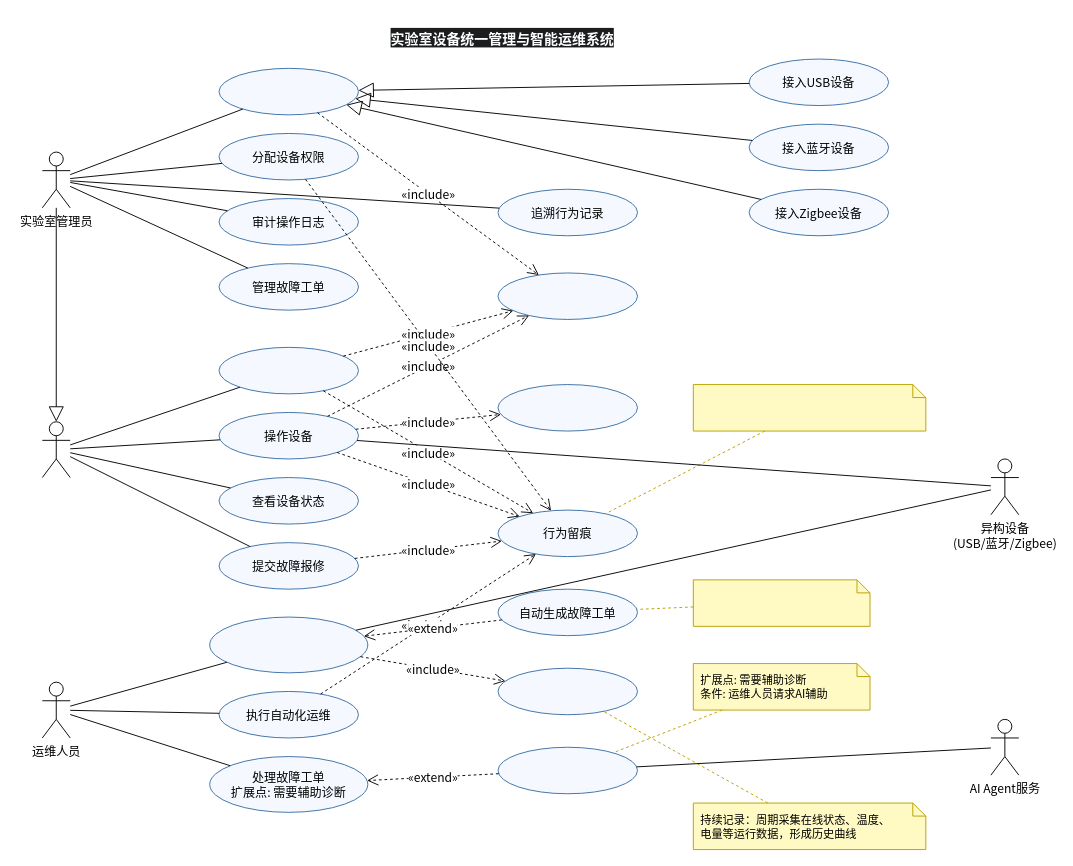
This 1073x866 diagram has some shape labels left out. Here are the shapes that lost their labels. From the top down, the box of each, then its label:
(218, 67, 359, 115): 接入设备
(497, 272, 638, 319): 登录认证
(218, 346, 359, 394): 申请使用设备
(497, 384, 638, 431): 权限校验
(692, 384, 926, 431): 行为留痕：记录谁、何时、对哪台设备、 做了什么、结果如何；日志只追加不可改
(41, 421, 70, 478): 实验人员(学生)
(692, 579, 870, 626): 扩展点: 检测到异常 条件: 监测到设备状态异常
(209, 616, 368, 673): 监测设备状态 扩展点: 检测到异常
(497, 667, 638, 715): 持续记录运行数据
(497, 746, 638, 794): AI智能故障分析
